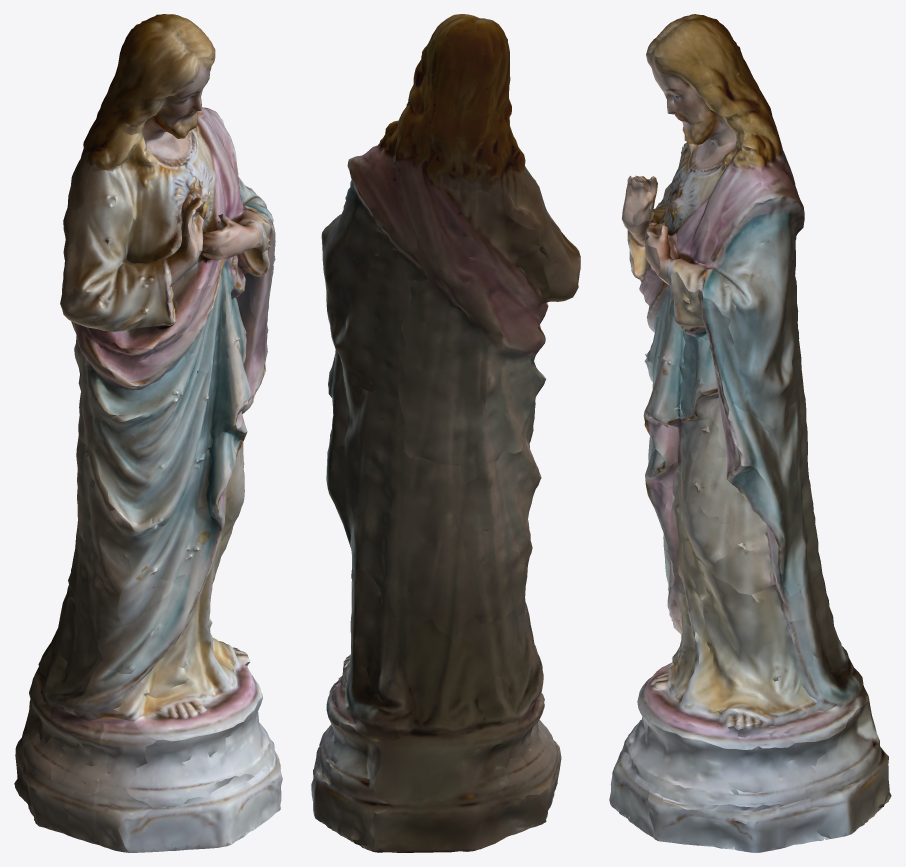
The model's file is 3D SCANS.c4d.fbx.
The picture shows the model from 3 angles, left to right: view 1: azimuth 30°, elevation 25°; view 2: azimuth 150°, elevation 25°; view 3: azimuth 270°, elevation 25°; orthographic projection. The views are drawn at different scales.
Visible parts, largest first — view 1: Default_2; view 2: Default_2; view 3: Default_2.
Boxes of the visible parts, x1=… form: Default_2: x1=14, y1=14, x2=282, y2=852; Default_2: x1=311, y1=14, x2=580, y2=852; Default_2: x1=609, y1=14, x2=891, y2=852.
Bounding box in the file's own units: 121 × 395 × 130.
Materials: 1 (1 with a texture image).
